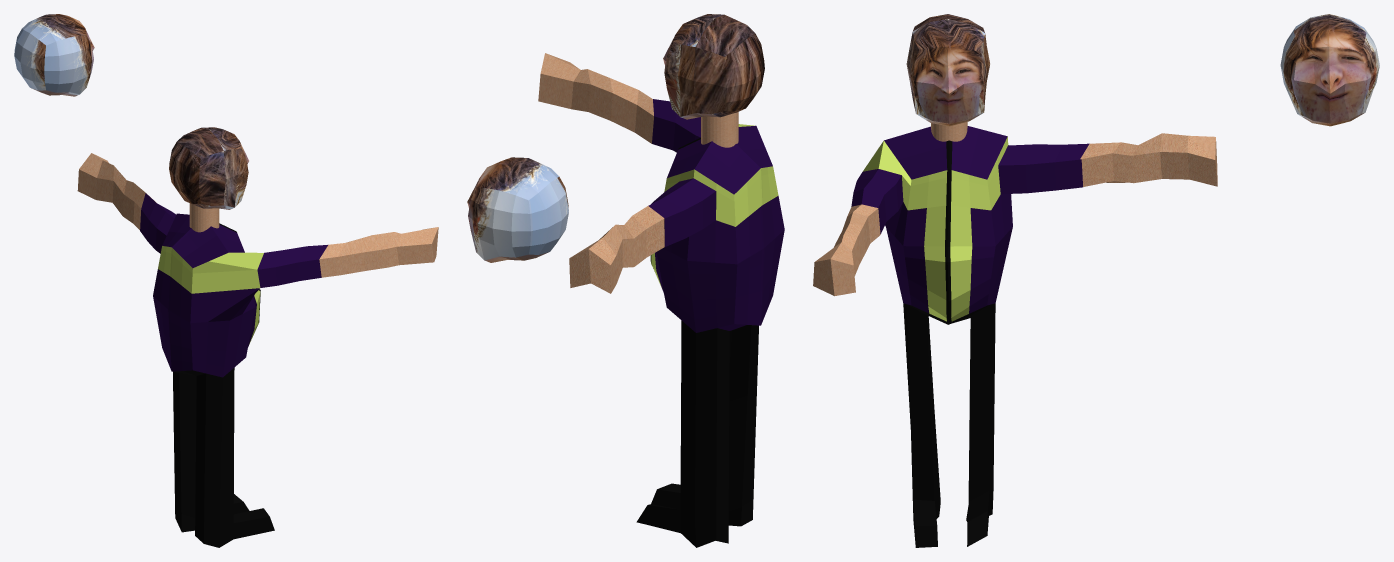
The model's file is NPC arm forward.fbx.
3 views of the same model, side by side, from view 1: azimuth 30°, elevation 25°; view 2: azimuth 150°, elevation 25°; view 3: azimuth 270°, elevation 25° (orthographic). The views are drawn at different scales.
Visible parts, largest first — view 1: Cube.004, Cube, Cube.002, Cylinder; view 2: Cube.004, Cube.002, Cube, Cylinder; view 3: Cube.004, Cube.002, Cube.
Boxes of the visible parts, <box> form: Cube.004: <box>77,153,438,547</box>; Cube: <box>169,127,248,209</box>; Cube.002: <box>14,14,94,96</box>; Cylinder: <box>189,203,219,232</box>; Cube.004: <box>538,53,784,547</box>; Cube.002: <box>467,157,568,262</box>; Cube: <box>663,14,764,119</box>; Cylinder: <box>701,112,738,147</box>; Cube.004: <box>813,126,1217,547</box>; Cube.002: <box>1280,14,1379,126</box>; Cube: <box>906,14,989,126</box>.
Size of the model in its own units: 542 by 953 by 974.
